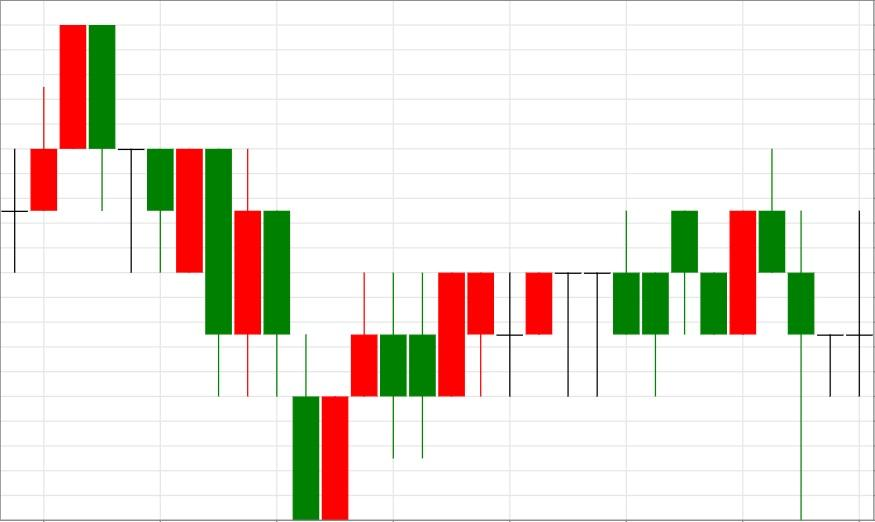bearish_engulfing_fall: (0, 24, 116, 273)
bullish_engulfing_rise: (671, 211, 756, 335)
